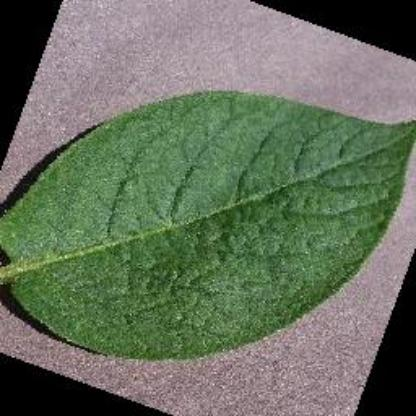Healthy-plant: (0, 86, 416, 362)
